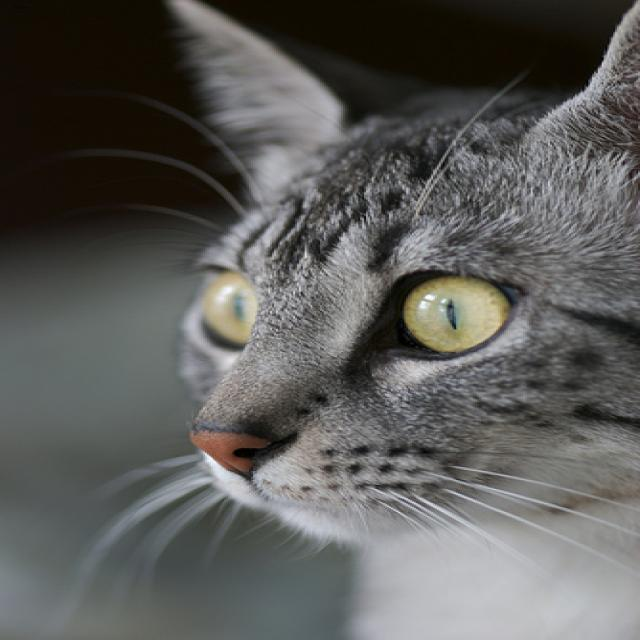cat: (165, 0, 634, 547)
